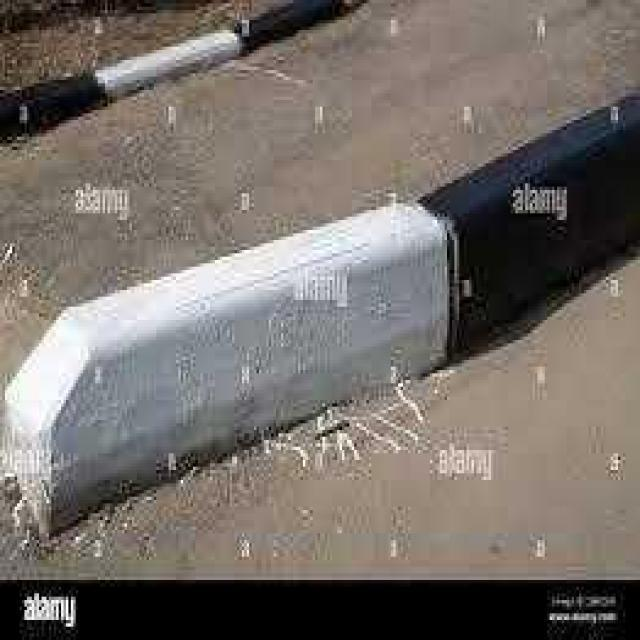curb: (14, 248, 415, 532), (366, 105, 640, 383), (1, 43, 183, 147), (195, 1, 388, 67)
